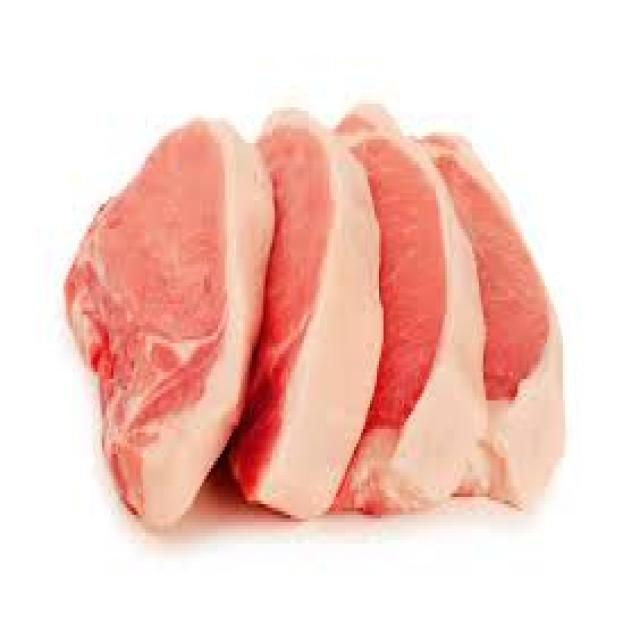Pork: (66, 122, 275, 527), (325, 128, 488, 523), (231, 114, 384, 518), (438, 132, 566, 513)
